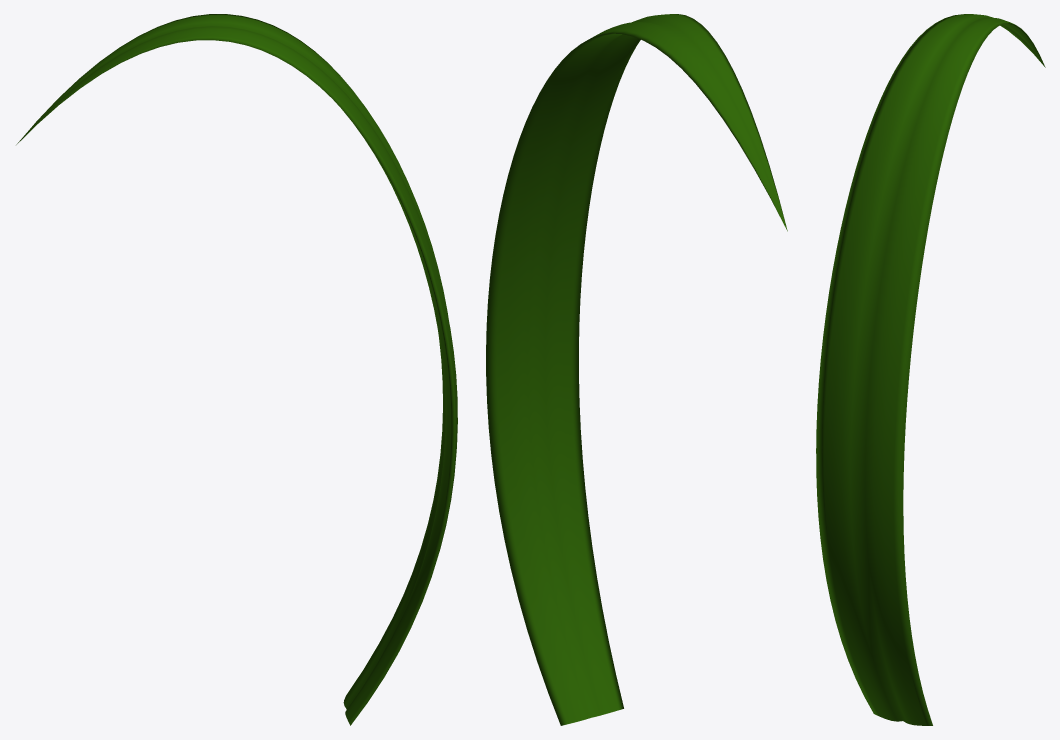
The picture shows the model from 3 angles, left to right: view 1: azimuth 30°, elevation 25°; view 2: azimuth 150°, elevation 25°; view 3: azimuth 270°, elevation 25°; orthographic projection. The views are drawn at different scales.
Visible parts, largest first — view 1: ТраекторияNurbs.006; view 2: ТраекторияNurbs.006; view 3: ТраекторияNurbs.006.
Part boxes in pixels (bbox=[...]): ТраекторияNurbs.006: bbox=[16, 14, 457, 725]; ТраекторияNurbs.006: bbox=[486, 14, 787, 725]; ТраекторияNurbs.006: bbox=[816, 14, 1045, 725].
Size of the model in its own units: 129 by 239 by 76.79.
